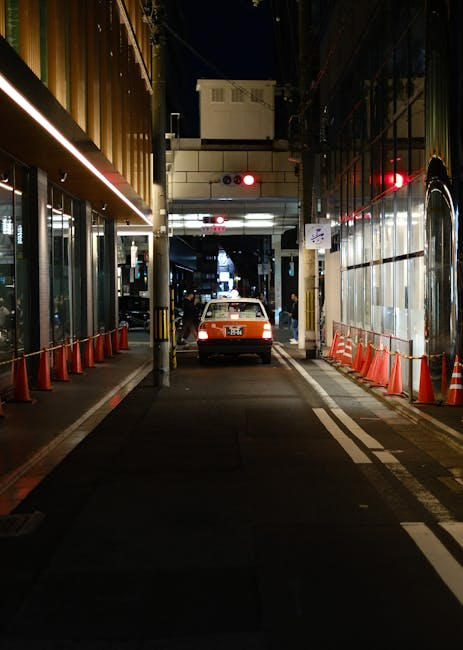traffic_cone: (8, 353, 36, 404), (412, 354, 438, 406), (383, 351, 407, 398), (442, 354, 463, 407), (35, 347, 54, 392)
